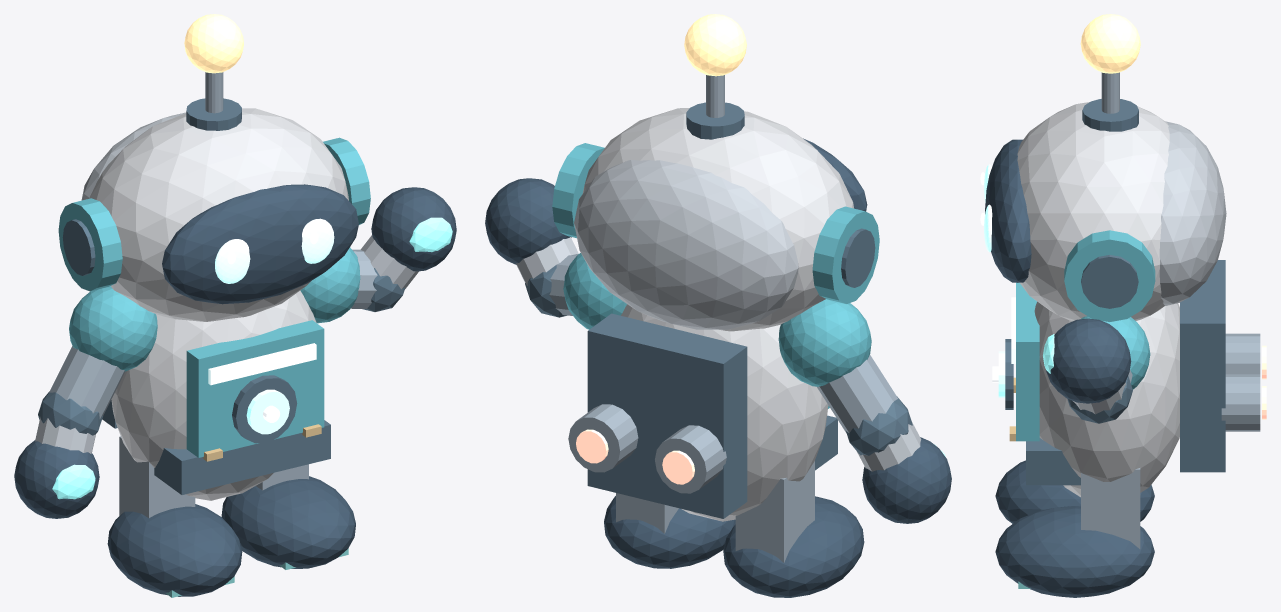
File: astrabot.glb
3 views of the same model, side by side, from view 1: azimuth 30°, elevation 25°; view 2: azimuth 150°, elevation 25°; view 3: azimuth 270°, elevation 25° (orthographic). The views are drawn at different scales.
Visible parts, largest first — view 1: head_16, visor_18, torso_06, chest_panel_09, boot_L_01, boot_R_04, belt_08, shoulder_L_27, hand_R_37, hand_L_31, ear_L_21, upper_arm_L_28 (+21 smaller); view 2: head_back_17, backpack_07, head_16, torso_06, boot_L_01, shoulder_L_27, boot_R_04, hand_L_31, hand_R_37, leg_L_00, ear_L_21, upper_arm_L_28 (+18 smaller); view 3: head_16, torso_06, boot_R_04, head_back_17, backpack_07, hand_R_37, visor_18, ear_R_25, leg_R_03, chest_panel_09, boot_L_01, antenna_tip_41 (+10 smaller).
Boxes of the visible parts, bbox=[...] form: head_16: bbox=[89, 108, 348, 321]; visor_18: bbox=[162, 184, 358, 304]; torso_06: bbox=[111, 290, 316, 500]; chest_panel_09: bbox=[186, 320, 324, 457]; boot_L_01: bbox=[107, 504, 242, 596]; boot_R_04: bbox=[221, 476, 355, 568]; belt_08: bbox=[154, 420, 330, 494]; shoulder_L_27: bbox=[69, 286, 157, 371]; hand_R_37: bbox=[371, 187, 456, 271]; hand_L_31: bbox=[14, 440, 99, 518]; ear_L_21: bbox=[58, 198, 122, 291]; upper_arm_L_28: bbox=[49, 346, 124, 418]; head_back_17: bbox=[574, 159, 798, 329]; backpack_07: bbox=[587, 313, 747, 518]; head_16: bbox=[582, 108, 853, 331]; torso_06: bbox=[621, 304, 828, 521]; boot_L_01: bbox=[723, 496, 864, 597]; shoulder_L_27: bbox=[778, 299, 871, 386]; boot_R_04: bbox=[604, 496, 735, 568]; hand_L_31: bbox=[862, 437, 951, 523]; hand_R_37: bbox=[485, 178, 571, 264]; leg_L_00: bbox=[735, 461, 814, 562]; ear_L_21: bbox=[812, 206, 879, 303]; upper_arm_L_28: bbox=[817, 355, 897, 432]; head_16: bbox=[1017, 102, 1169, 321]; torso_06: bbox=[1034, 301, 1179, 497]; boot_R_04: bbox=[995, 506, 1154, 597]; head_back_17: bbox=[1159, 121, 1226, 306]; backpack_07: bbox=[1180, 260, 1225, 472]; hand_R_37: bbox=[1046, 318, 1131, 403]; visor_18: bbox=[985, 139, 1031, 282]; ear_R_25: bbox=[1064, 230, 1155, 321]; leg_R_03: bbox=[1081, 468, 1140, 548]; chest_panel_09: bbox=[1016, 282, 1039, 441]; boot_L_01: bbox=[995, 460, 1154, 523]; antenna_tip_41: bbox=[1080, 14, 1140, 73].
Size of the model in its own units: 1.1 by 1.32 by 0.628.
